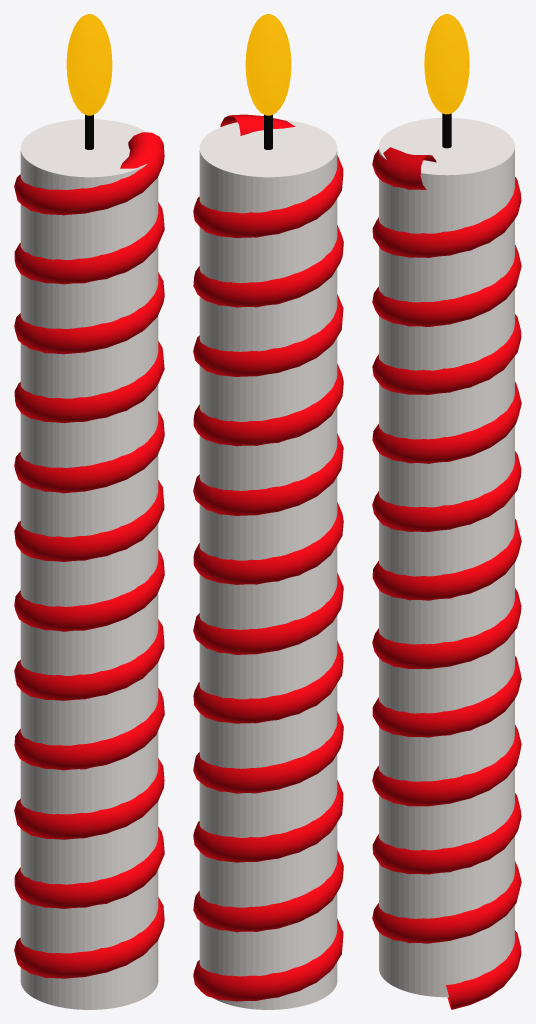
Rendered from wax3.glb.
The picture shows the model from 3 angles, left to right: view 1: azimuth 30°, elevation 25°; view 2: azimuth 150°, elevation 25°; view 3: azimuth 270°, elevation 25°; orthographic projection.
Parts seen in each view (by area): view 1: Candle, SpiralCurve, Flame; view 2: Candle, SpiralCurve, Flame; view 3: Candle, SpiralCurve, Flame.
Boxes of the visible parts, x1,y1,x2,y2 form: Candle: (20,119,158,1009); SpiralCurve: (14,132,164,978); Flame: (66,14,112,115); Candle: (199,119,337,1009); SpiralCurve: (193,114,343,1001); Flame: (245,14,291,115); Candle: (379,117,514,997); SpiralCurve: (372,147,521,1009); Flame: (424,14,469,114).
Size of the model in its own units: 0.1713 by 1.22 by 0.1713.
